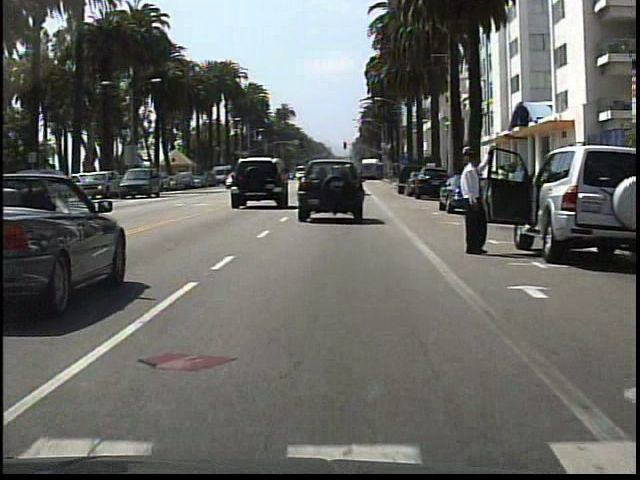person: (448, 142, 496, 261)
